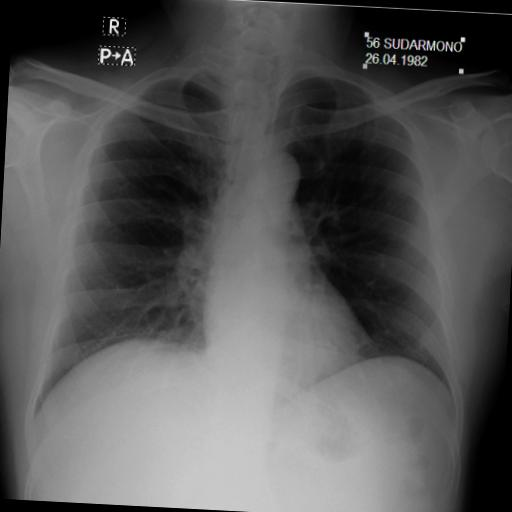normal: (21, 23, 491, 449)
